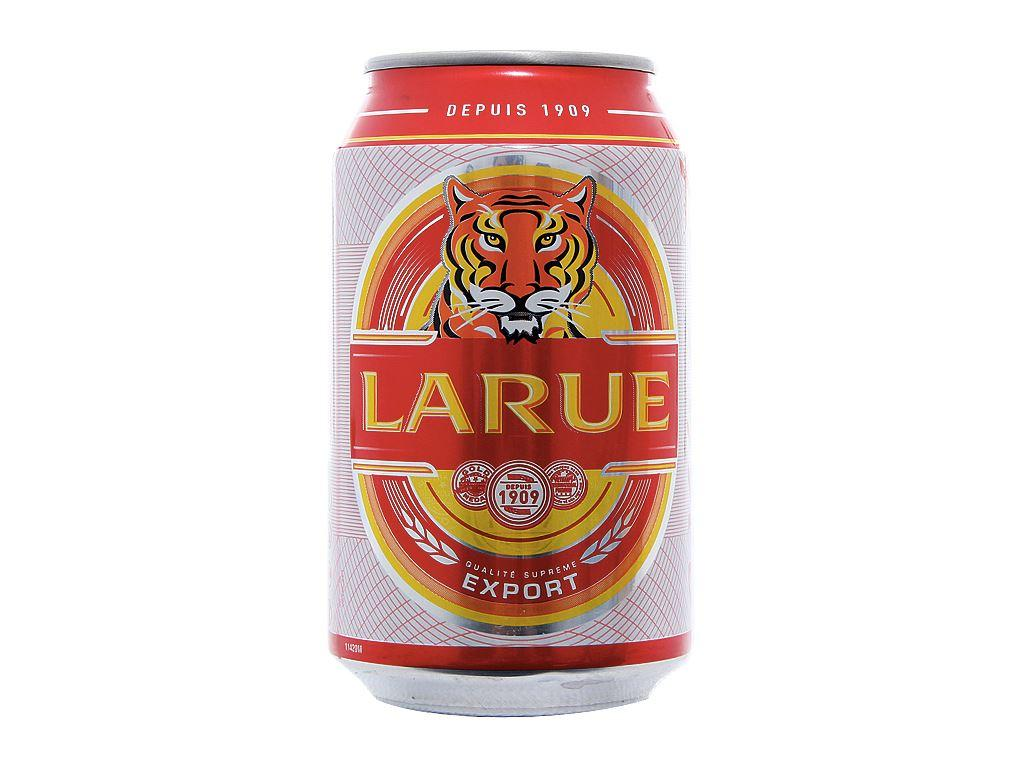metal: (330, 51, 690, 714)
